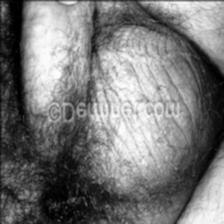Non-Cancerous Skin Condition: (98, 44, 152, 96), (90, 119, 128, 149)
